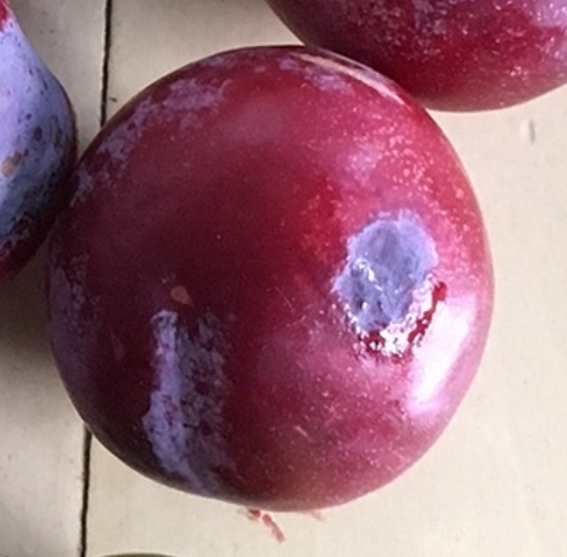plum_B: (47, 45, 493, 513)
